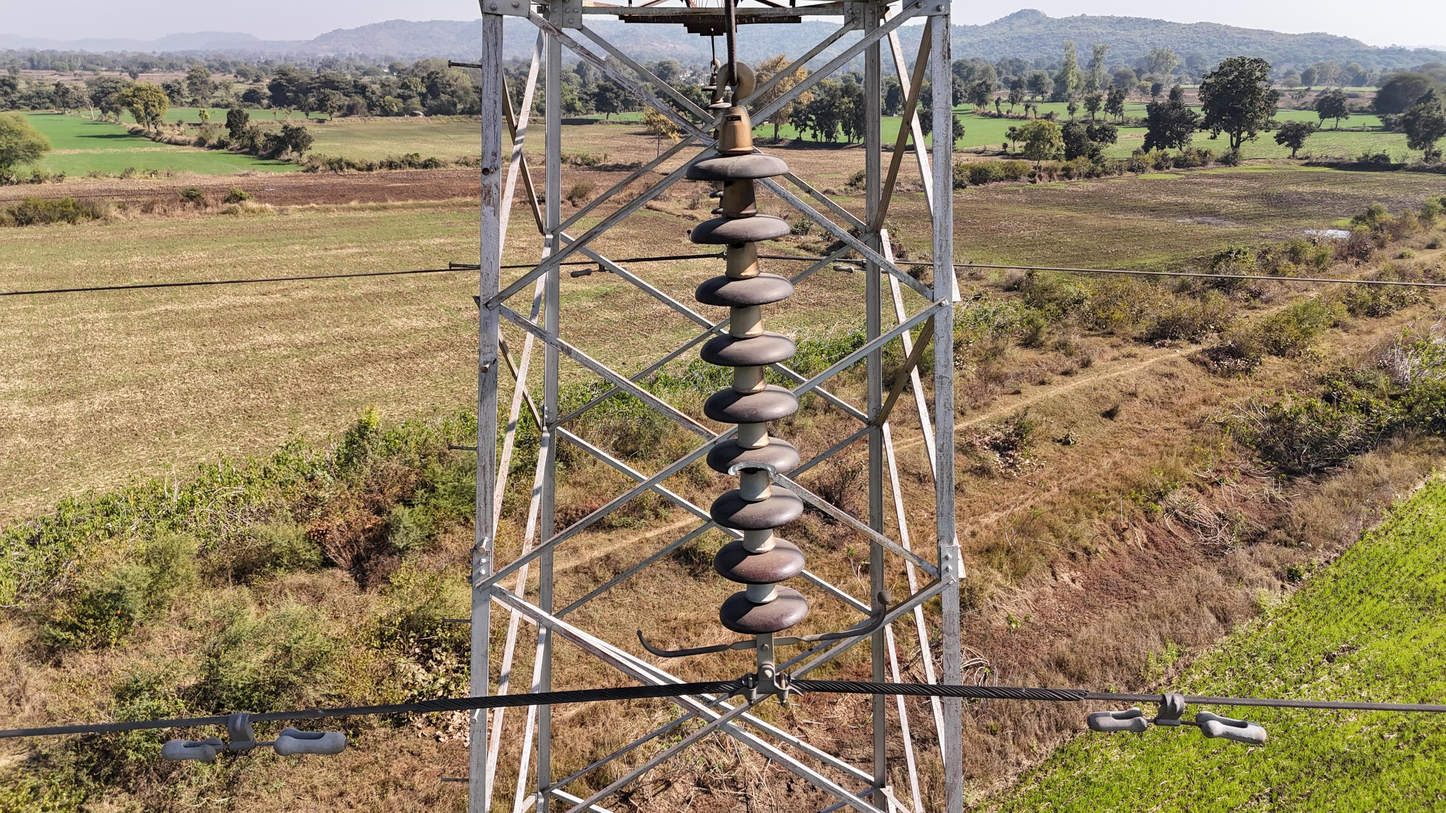broken_insulator: (700, 436, 801, 479)
